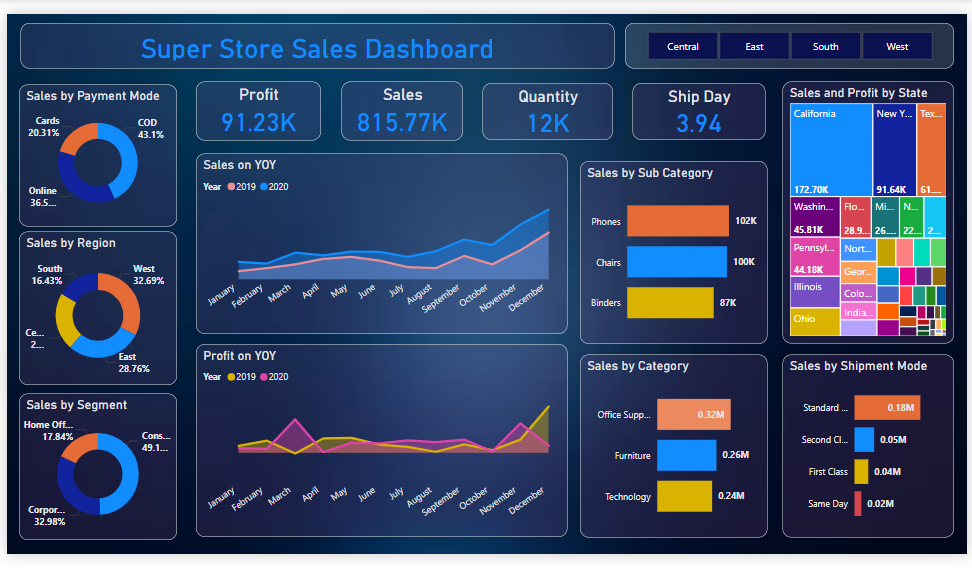

What the dashboard file says about the page in this screenshot:
{"tool":"powerbi","page":{"name":"Sales Dashboard","canvas":[1280,720],"ordinal":0},"visuals":[{"type":"barChart","title":"Sales by Category","fields":{"Category":["SuperStore_Sales_Dataset.Category"],"Y":["Sum(SuperStore_Sales_Dataset.Sales)"]},"box":[764.7,454.3,249.8,243.8],"z":0},{"type":"barChart","title":"Sales by Sub Category","fields":{"Category":["SuperStore_Sales_Dataset.Sub-Category"],"Y":["Sum(SuperStore_Sales_Dataset.Sales)"]},"box":[764.7,196.8,249.8,243.8],"z":1000},{"type":"barChart","title":"Sales by Shipment Mode","fields":{"Category":["SuperStore_Sales_Dataset.Ship Mode"],"Y":["Sum(SuperStore_Sales_Dataset.Sales)"]},"box":[1034.2,454.3,228.6,243.8],"z":2000},{"type":"areaChart","title":"Sales on YOY","fields":{"Y":["Sum(SuperStore_Sales_Dataset.Sales)"],"Category":["SuperStore_Sales_Dataset.Order Date.Variation.Date Hierarchy.Month"],"Series":["SuperStore_Sales_Dataset.Order Date.Variation.Date Hierarchy.Year"]},"box":[252.9,186.2,495.1,240.8],"z":3000},{"type":"areaChart","title":"Profit on YOY","fields":{"Category":["SuperStore_Sales_Dataset.Order Date.Variation.Date Hierarchy.Month"],"Series":["SuperStore_Sales_Dataset.Order Date.Variation.Date Hierarchy.Year"],"Y":["Sum(SuperStore_Sales_Dataset.Profit)"]},"box":[252.9,440.6,495.1,257.4],"z":4000},{"type":"slicer","fields":{"Values":["SuperStore_Sales_Dataset.Region"]},"box":[824.2,11.7,438.3,60.8],"z":5000},{"type":"donutChart","title":"Sales by Payment Mode","fields":{"Category":["SuperStore_Sales_Dataset.Payment Mode"],"Y":["Sum(SuperStore_Sales_Dataset.Sales)"]},"box":[16.7,93.9,210.5,189.3],"z":5000,"group":"g2"},{"type":"card","fields":{"Values":["Slicers.Dashboard_Title"]},"box":[17,11.3,791.8,60.5],"z":6000},{"type":"donutChart","title":"Sales by Region","fields":{"Category":["SuperStore_Sales_Dataset.Region"],"Y":["Sum(SuperStore_Sales_Dataset.Sales)"]},"box":[16.7,290.7,210.5,204.4],"z":6000,"group":"g2"},{"type":"group","id":"g1","title":"Group 1","box":[252.9,90.9,760.1,78.7],"z":7000},{"type":"donutChart","title":"Sales by Segment","fields":{"Category":["SuperStore_Sales_Dataset.Segment"],"Y":["Sum(SuperStore_Sales_Dataset.Sales)"]},"box":[16.7,505.8,210.5,195.3],"z":7000,"group":"g2"},{"type":"group","id":"g2","title":"Group 2","box":[16.7,93.9,210.5,607.2],"z":8000},{"type":"treemap","title":"Sales and Profit by State","fields":{"Group":["SuperStore_Sales_Dataset.State"],"Values":["Sum(SuperStore_Sales_Dataset.Sales)"]},"box":[1033.7,90.7,228.7,349.6],"z":9000},{"type":"card","title":"Profit","fields":{"Values":["Sum(SuperStore_Sales_Dataset.Profit)"]},"box":[252.9,90.9,166.6,78.7],"z":9000,"group":"g1"},{"type":"card","title":"Sales","fields":{"Values":["Sum(SuperStore_Sales_Dataset.Sales)"]},"box":[446.7,90.9,162,78.7],"z":10000,"group":"g1"},{"type":"card","title":"Quantity","fields":{"Values":["Sum(SuperStore_Sales_Dataset.Quantity)"]},"box":[634.5,93.8,174.1,75.9],"z":11000,"group":"g1"},{"type":"card","title":"Ship Day","fields":{"Values":["Avg(SuperStore_Sales_Dataset.Avg_delivery_days)"]},"box":[835.9,93.8,177.2,75.9],"z":12000,"group":"g1"}]}

Visuals, with their boxes on the page's 1280x720 design canvas (x1, y1, x2, y2). These are canvas units, not pixel positions in the 972x568 screenshot, which may show the page scaled, cropped or inside an application window:
"Sales by Category" barChart: 765, 454, 1014, 698
"Sales by Sub Category" barChart: 765, 197, 1014, 441
"Sales by Shipment Mode" barChart: 1034, 454, 1263, 698
"Sales on YOY" areaChart: 253, 186, 748, 427
"Profit on YOY" areaChart: 253, 441, 748, 698
slicer - SuperStore_Sales_Dataset.Region: 824, 12, 1262, 72
"Sales by Payment Mode" donutChart: 17, 94, 227, 283
card - Slicers.Dashboard_Title: 17, 11, 809, 72
"Sales by Region" donutChart: 17, 291, 227, 495
"Group 1" group: 253, 91, 1013, 170
"Sales by Segment" donutChart: 17, 506, 227, 701
"Group 2" group: 17, 94, 227, 701
"Sales and Profit by State" treemap: 1034, 91, 1262, 440
"Profit" card: 253, 91, 420, 170
"Sales" card: 447, 91, 609, 170
"Quantity" card: 634, 94, 809, 170
"Ship Day" card: 836, 94, 1013, 170
